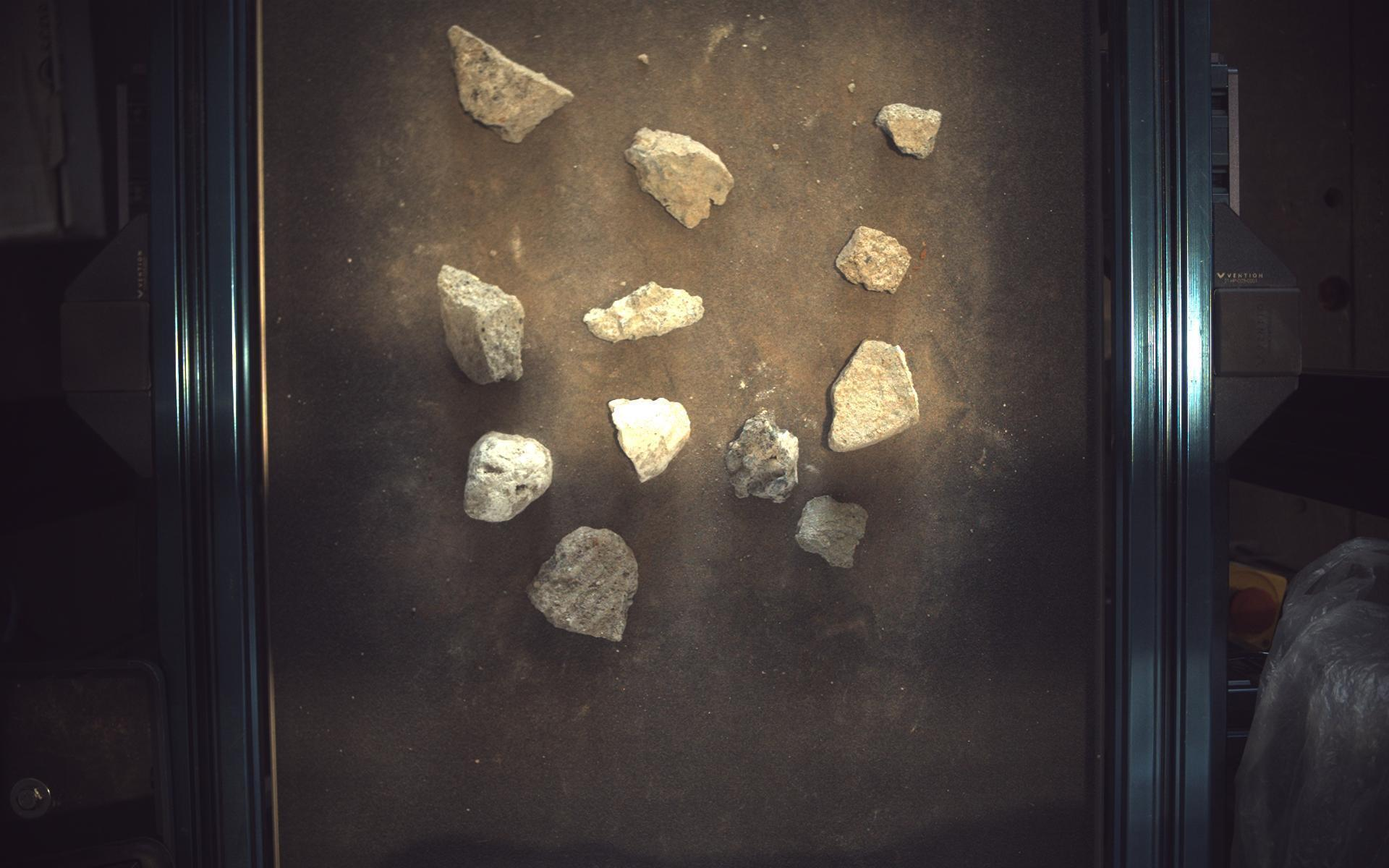concrete: (448, 24, 574, 142), (527, 527, 639, 642), (625, 127, 734, 228), (438, 265, 524, 384), (829, 340, 920, 452), (464, 431, 553, 523), (585, 281, 705, 342), (609, 398, 692, 482), (726, 409, 800, 503), (797, 495, 870, 569), (837, 225, 912, 293), (878, 102, 943, 158)
